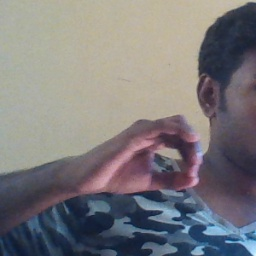O: (77, 114, 209, 199)
